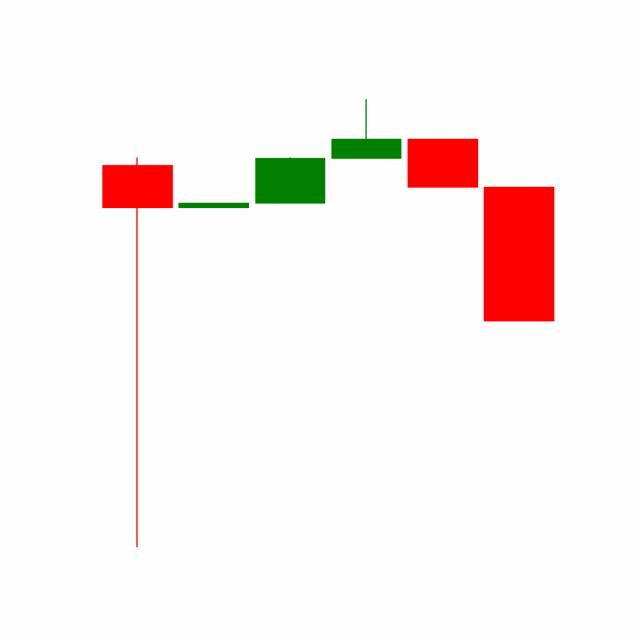Marubozu: (403, 137, 481, 187)
